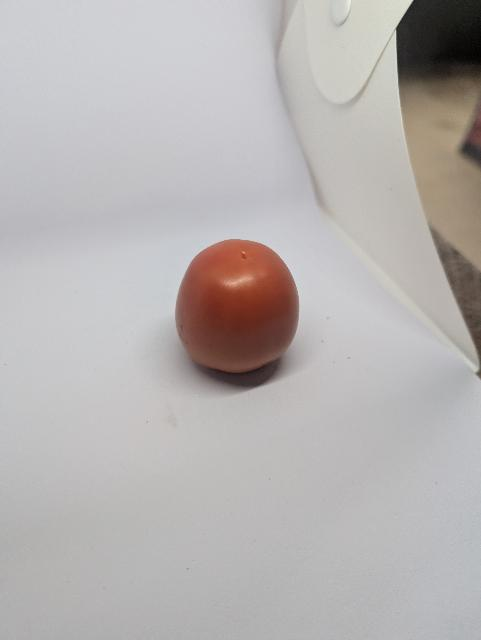red: (171, 234, 310, 394)
